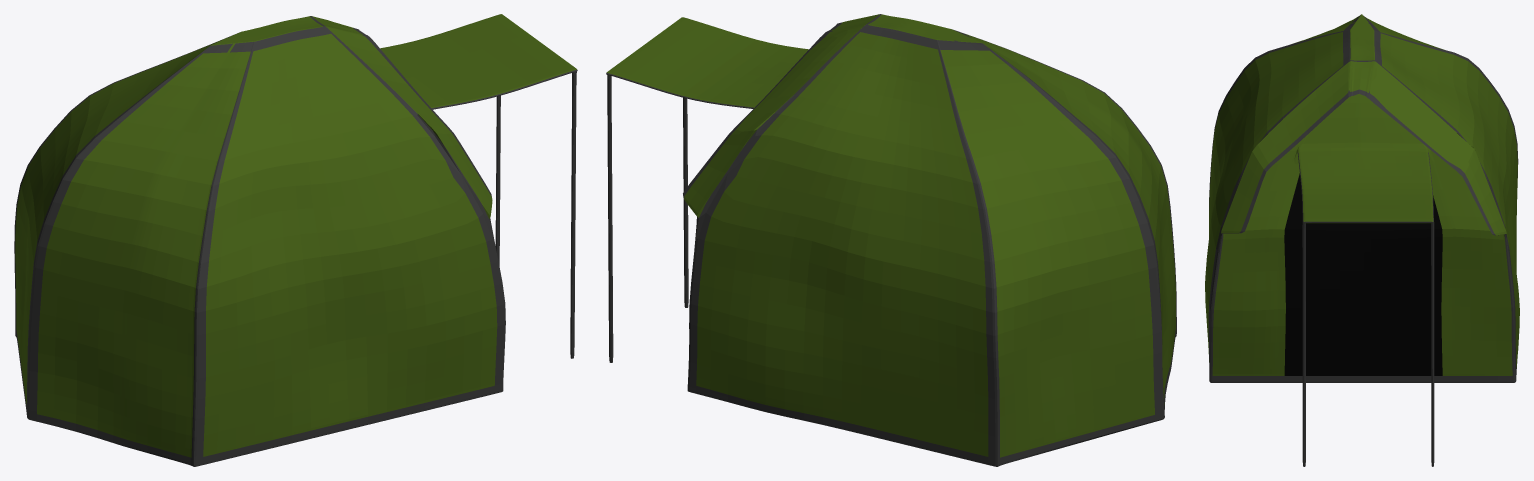
Rendered from tent3.fbx.
3 renders of one model, left to right at view 1: azimuth 30°, elevation 25°; view 2: azimuth 150°, elevation 25°; view 3: azimuth 270°, elevation 25°, orthographic. The views are drawn at different scales.
Parts seen in each view (by area): view 1: Cube.001; view 2: Cube.001; view 3: Cube.001.
Part boxes in pixels (x1=…): Cube.001: x1=14, y1=14, x2=577, y2=466; Cube.001: x1=606, y1=14, x2=1176, y2=466; Cube.001: x1=1205, y1=14, x2=1519, y2=466.
Bounding box in the file's own units: 332 × 227 × 205.
